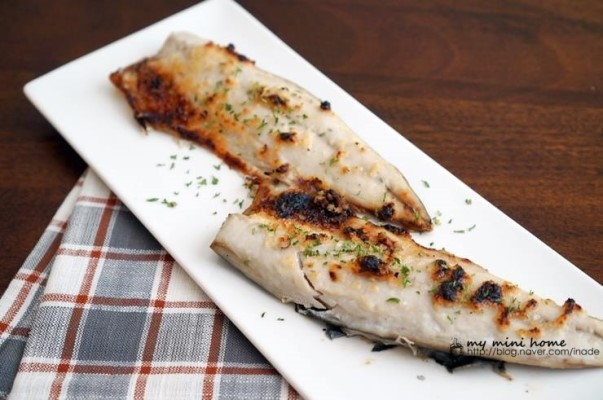godeung-eogu-i: (210, 162, 603, 373), (105, 22, 435, 228)
